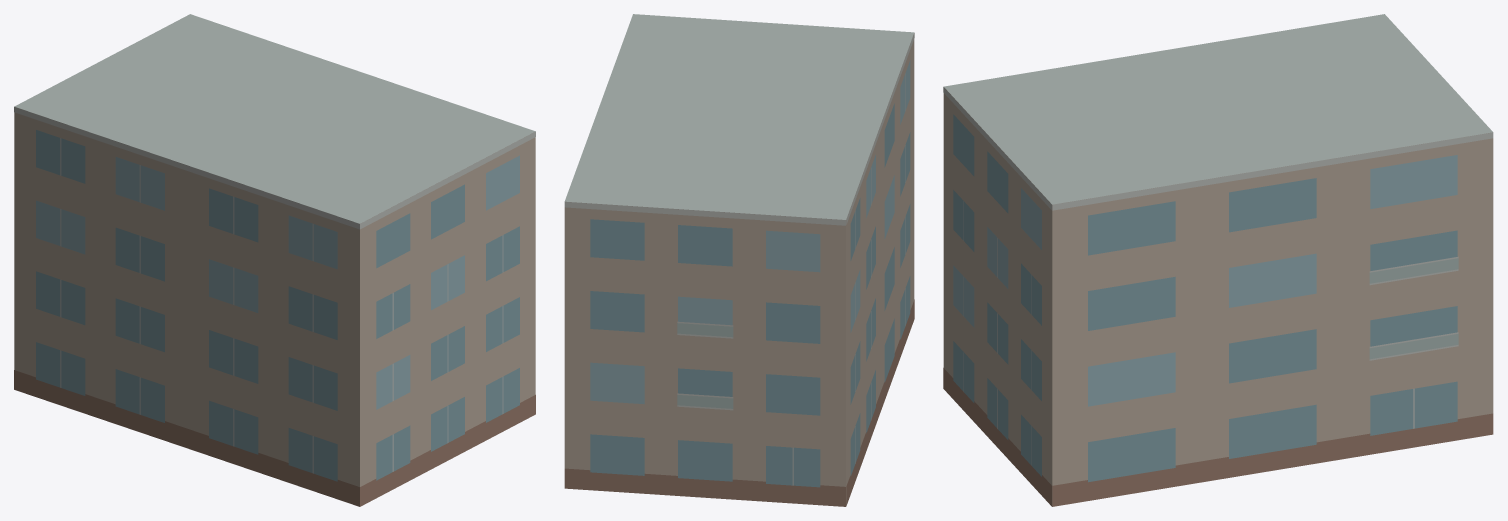
File: residential-df81f2a3-504e-4ee5-aca7-29c954b7d384.glb
3 views of the same model, side by side, from view 1: azimuth 30°, elevation 25°; view 2: azimuth 150°, elevation 25°; view 3: azimuth 270°, elevation 25° (orthographic). The views are drawn at different scales.
Parts seen in each view (by area): view 1: residential-df81f2a3-504e-4ee5-aca7-29c954b7d384.tmp; view 2: residential-df81f2a3-504e-4ee5-aca7-29c954b7d384.tmp; view 3: residential-df81f2a3-504e-4ee5-aca7-29c954b7d384.tmp.
Part boxes in pixels (x1,y1,x2,y2): residential-df81f2a3-504e-4ee5-aca7-29c954b7d384.tmp: [14, 14, 535, 506]; residential-df81f2a3-504e-4ee5-aca7-29c954b7d384.tmp: [564, 14, 914, 506]; residential-df81f2a3-504e-4ee5-aca7-29c954b7d384.tmp: [943, 14, 1493, 506].
Size of the model in its own units: 16.52 by 12.2 by 20.13.
